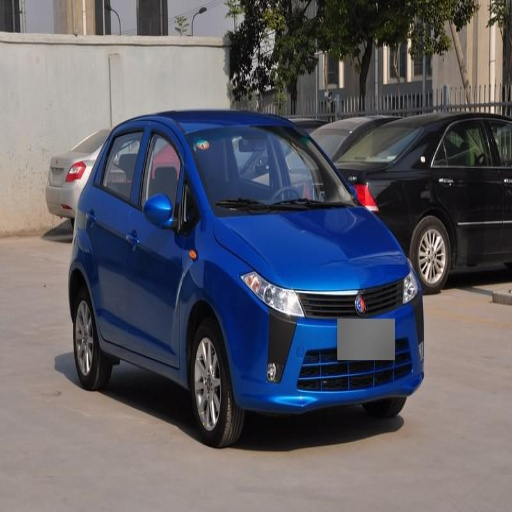front_bumper: (226, 278, 423, 415)
front_right_door: (125, 123, 187, 367)
front_right_light: (242, 271, 303, 317)
